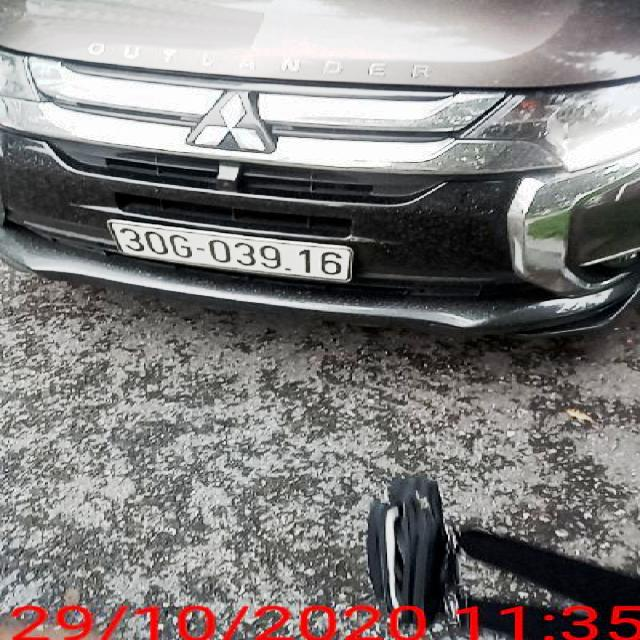license_plate: (111, 223, 351, 282)
